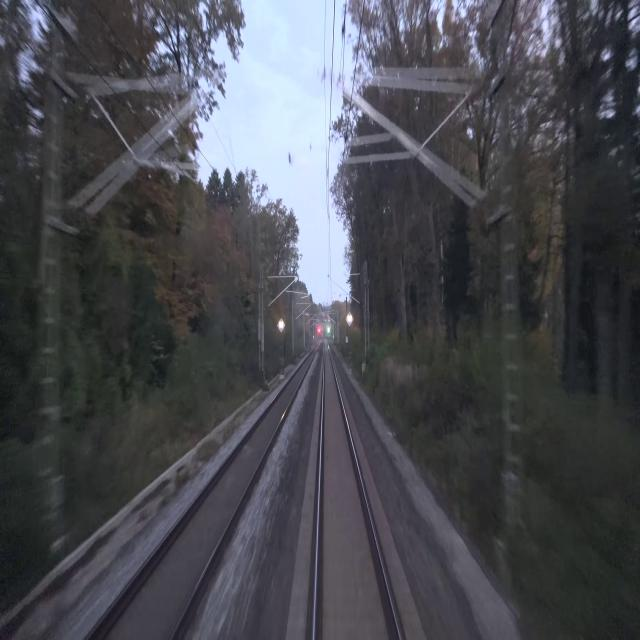rail-track: (89, 352, 313, 639), (317, 345, 399, 639)
